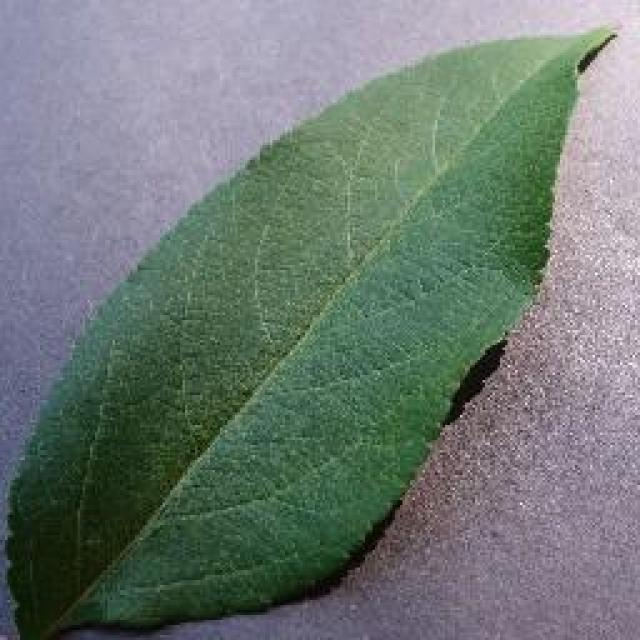apple healthy: (0, 20, 618, 638)
